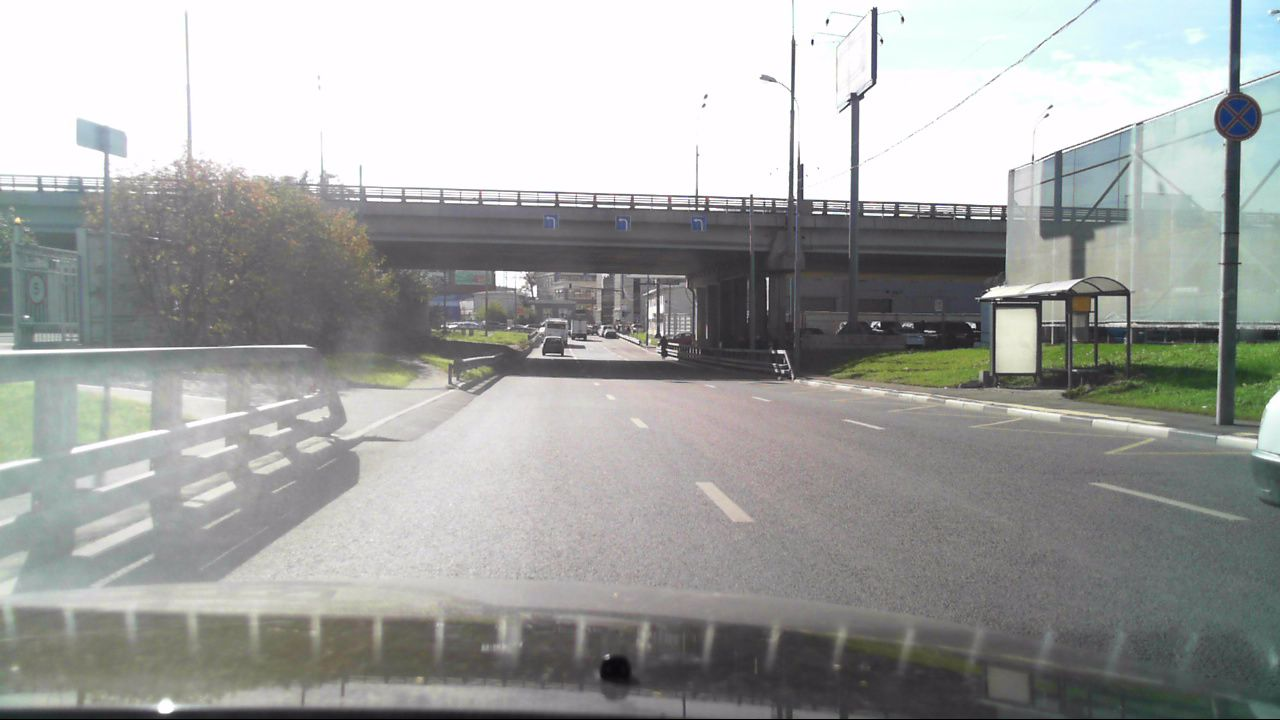No Parking: (1208, 89, 1265, 144)
